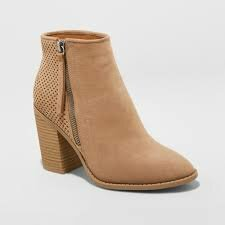Ankle boots: (29, 27, 205, 194)
